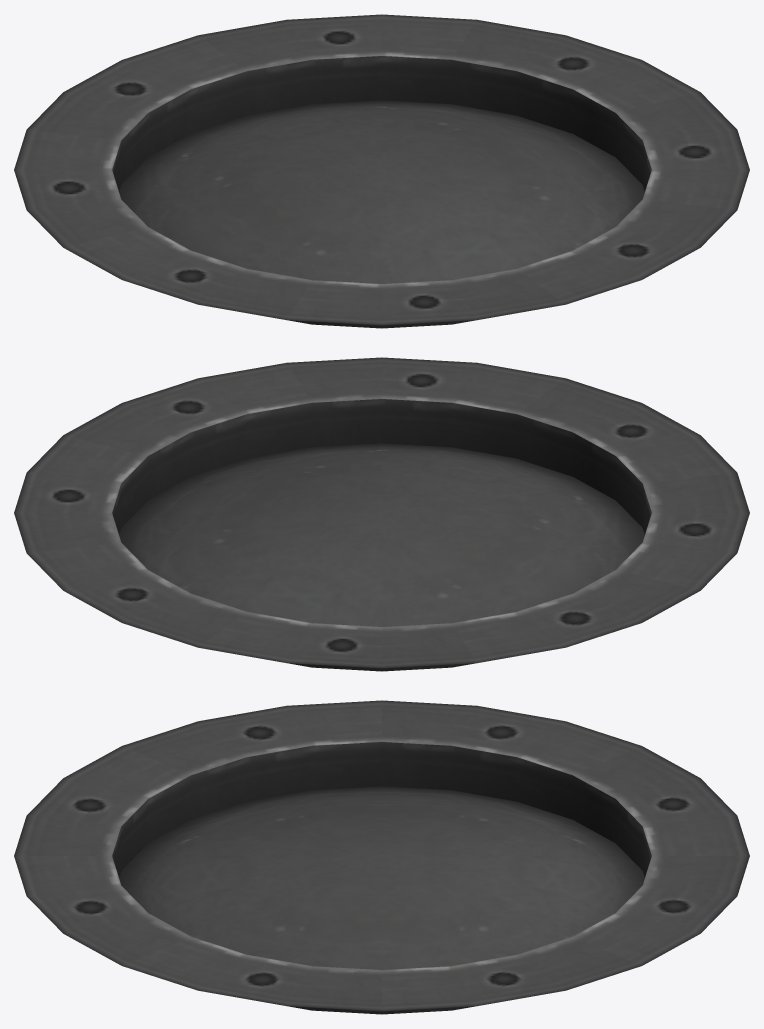
The model's file is end_basic_s0p5.obj.
3 views of the same model, one above another, from view 1: azimuth 30°, elevation 25°; view 2: azimuth 150°, elevation 25°; view 3: azimuth 270°, elevation 25° (orthographic).
Parts seen in each view (by area): view 1: end; view 2: end; view 3: end.
Part boxes in pixels (x1,y1,x2,y2): end: (14,14,749,328); end: (14,357,749,671); end: (14,700,749,1014).
Bounding box in the file's own units: 0.9375 × 0.0625 × 0.9375.
